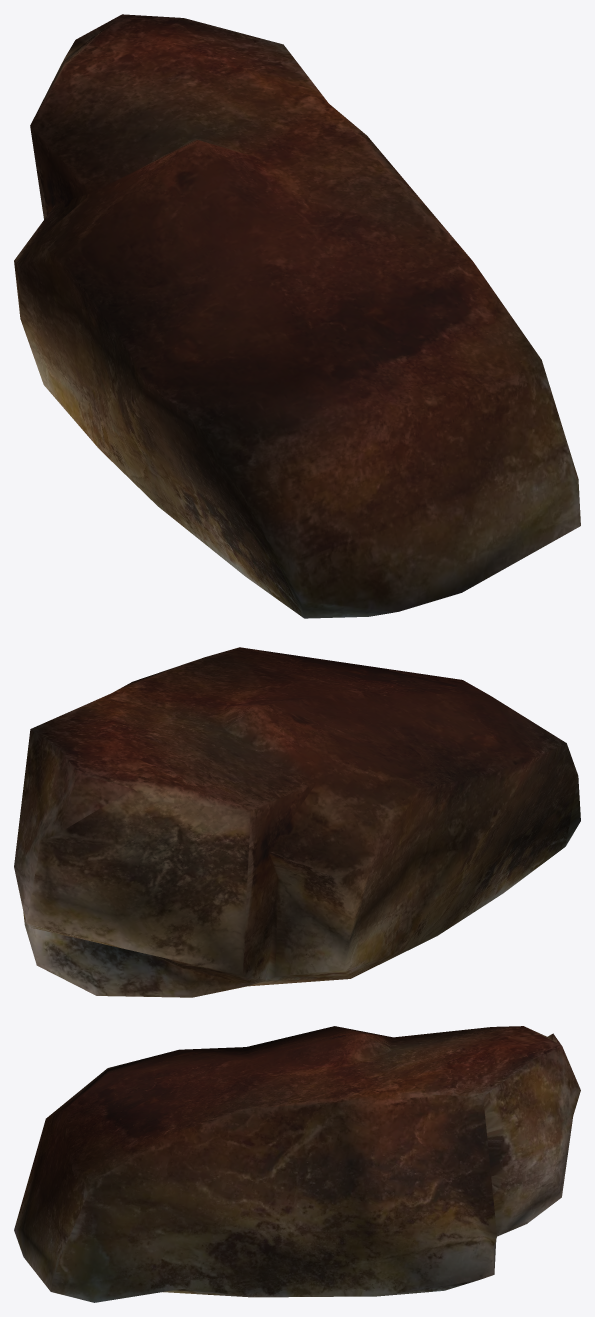
Rendered from rock_07-far.glb.
The picture shows the model from 3 angles, top to bottom: view 1: azimuth 30°, elevation 25°; view 2: azimuth 150°, elevation 25°; view 3: azimuth 270°, elevation 25°; orthographic projection. The views are drawn at different scales.
Parts seen in each view (by area): view 1: rock_07; view 2: rock_07; view 3: rock_07.
Boxes of the visible parts, x1,y1,x2,y2 form: rock_07: [14, 14, 580, 618]; rock_07: [14, 647, 580, 997]; rock_07: [14, 1026, 580, 1302].
Bounding box in the file's own units: 0.1659 × 0.1393 × 0.3193.
Materials: 1 (1 with a texture image).
